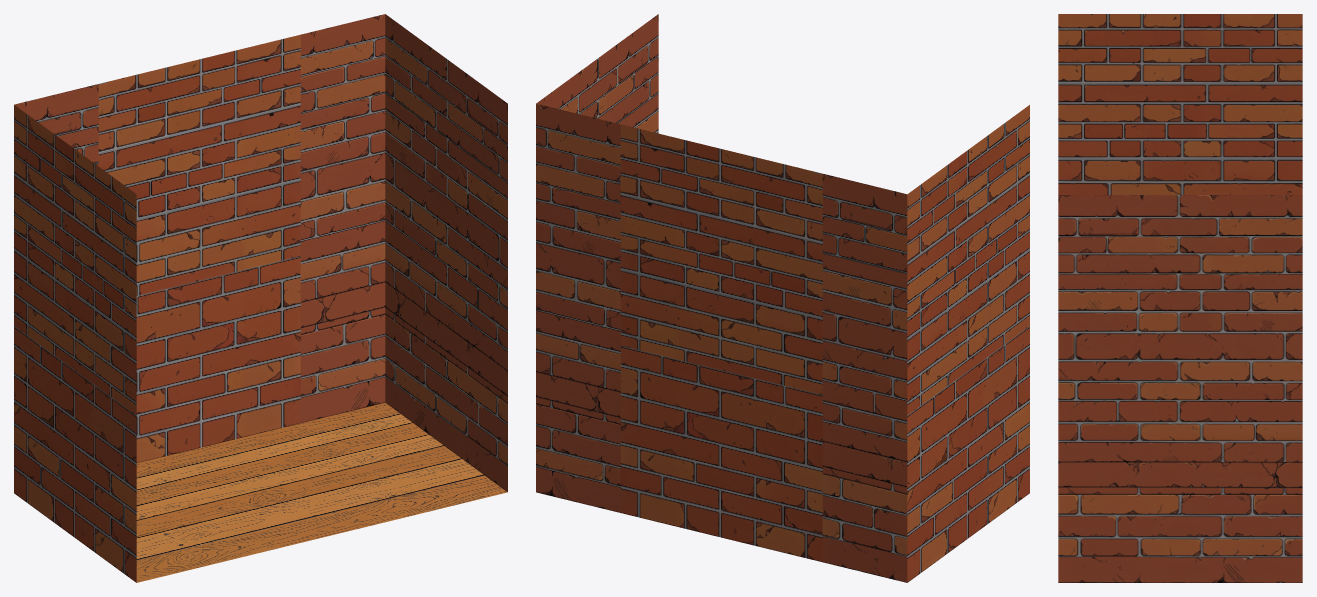
Rendered from room-shell.glb.
3 renders of one model, left to right at view 1: azimuth 30°, elevation 25°; view 2: azimuth 150°, elevation 25°; view 3: azimuth 270°, elevation 25°, orthographic.
Parts seen in each view (by area): view 1: back-wall, left-wall, right-wall, floor; view 2: back-wall, left-wall, right-wall; view 3: right-wall, left-wall.
Part boxes in pixels (x1,y1,x2,y2): back-wall: (14,14,385,463); left-wall: (14,105,136,582); right-wall: (385,14,507,491); floor: (136,402,507,582); back-wall: (536,103,907,582); left-wall: (907,105,1029,582); right-wall: (536,14,658,133); right-wall: (1058,195,1302,582); left-wall: (1058,14,1302,194).
Bounding box in the file's own units: 2.13 × 2.13 × 1.22.
4 materials, 4 textured.
